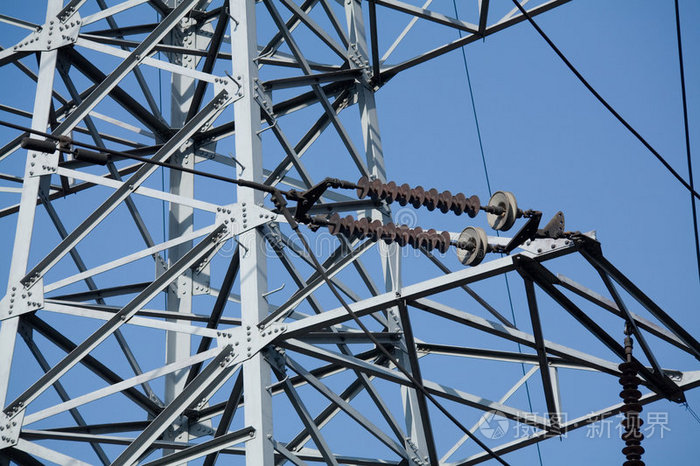insulator: (352, 175, 481, 218), (328, 211, 452, 252), (616, 362, 645, 466)
